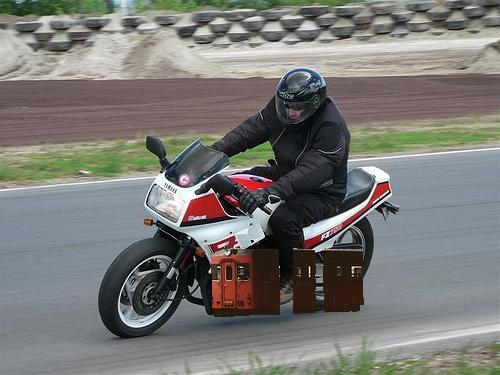tampered: (212, 249, 364, 317)
